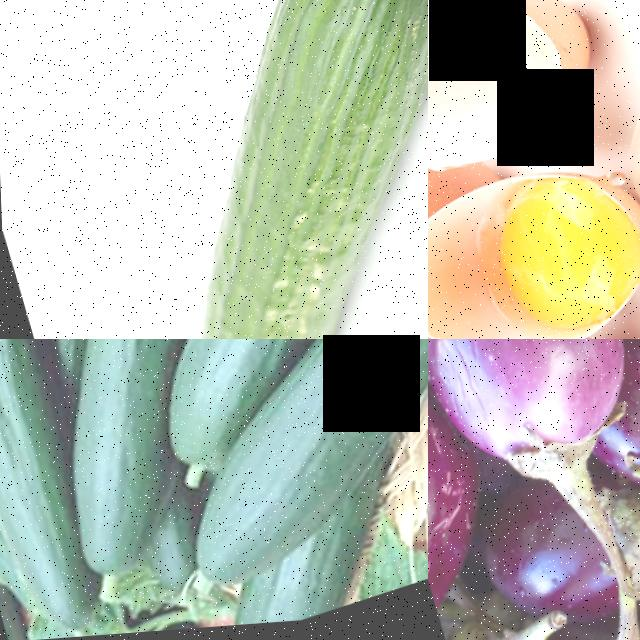cucumber: (39, 0, 428, 339), (151, 354, 428, 601), (10, 339, 204, 591), (0, 339, 109, 640)
egg_: (464, 151, 640, 339)
eggplant: (428, 339, 640, 498)
